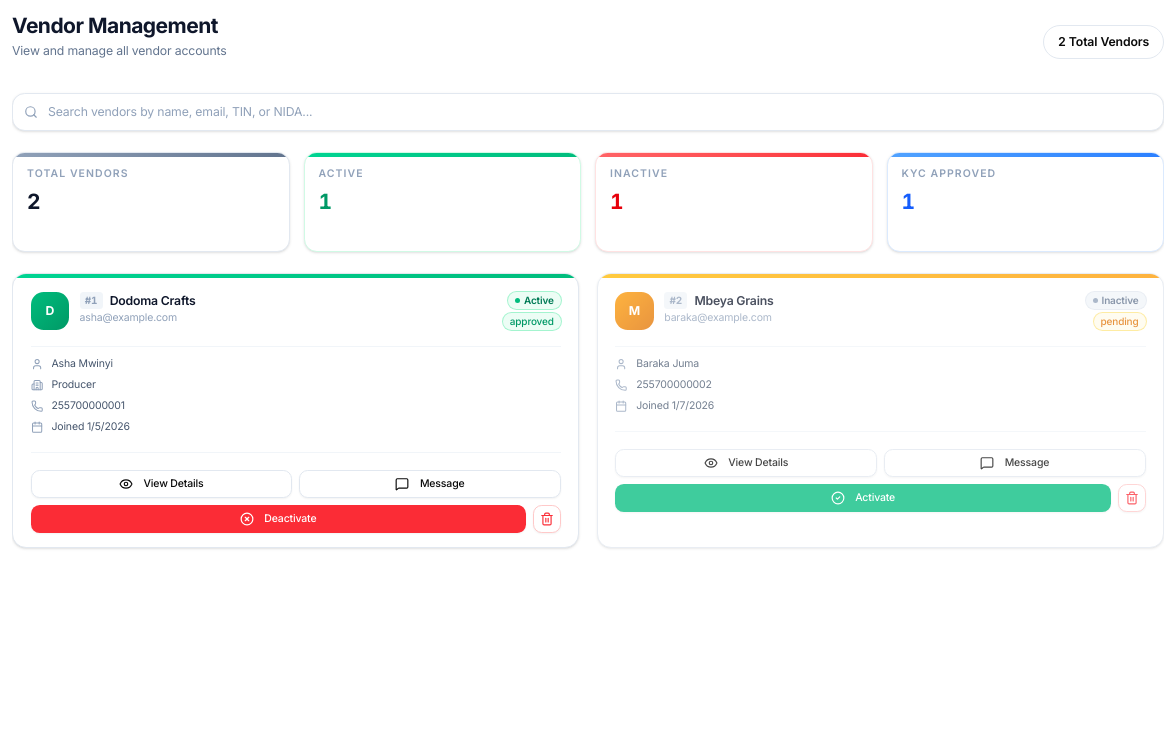
Test: VendorManagementTab › search › restores the full list when the query is cleared
Expected: the heading "Dodoma Crafts" is shown, [110,293,196,308]
Type "mbeya" into the field with placeholder "Search vendors by name, email, TIN, or NIDA...".
click(588, 112); type("mbeya")  # box [12,92,1164,131]
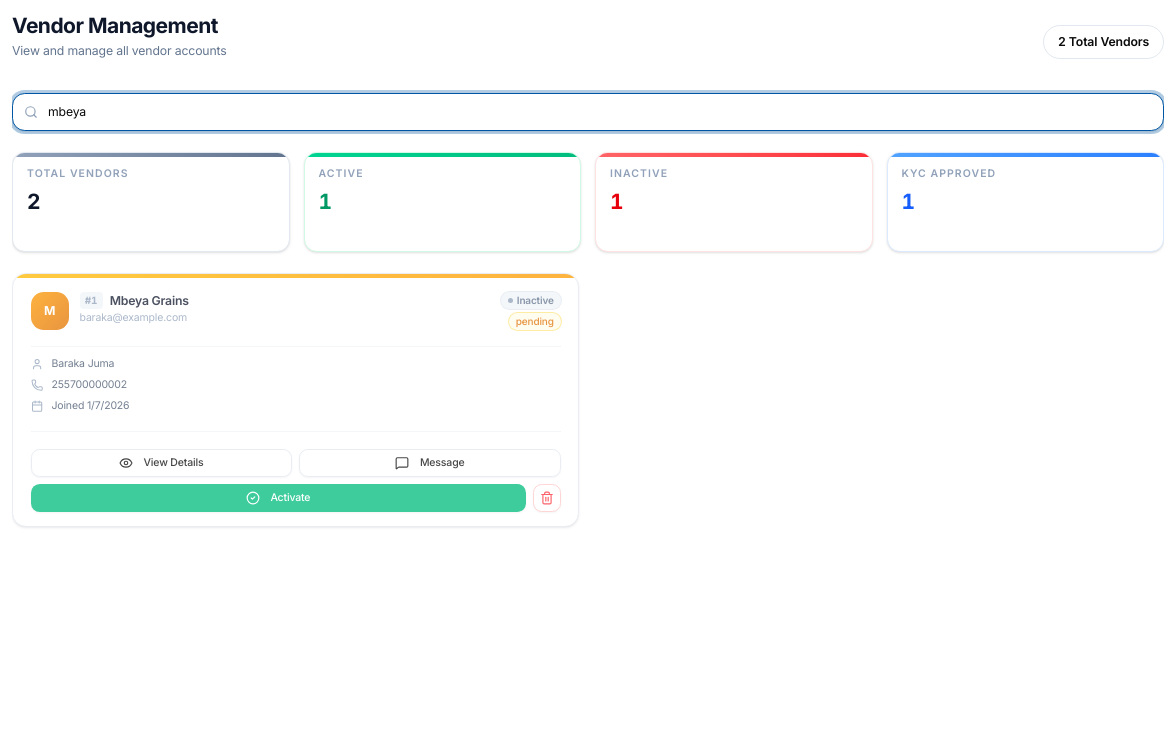
Now the heading "Dodoma Crafts" is gone
Clear the field with placeholder "Search vendors by name, email, TIN, or NIDA..." at (588, 112), box [12,92,1164,131]
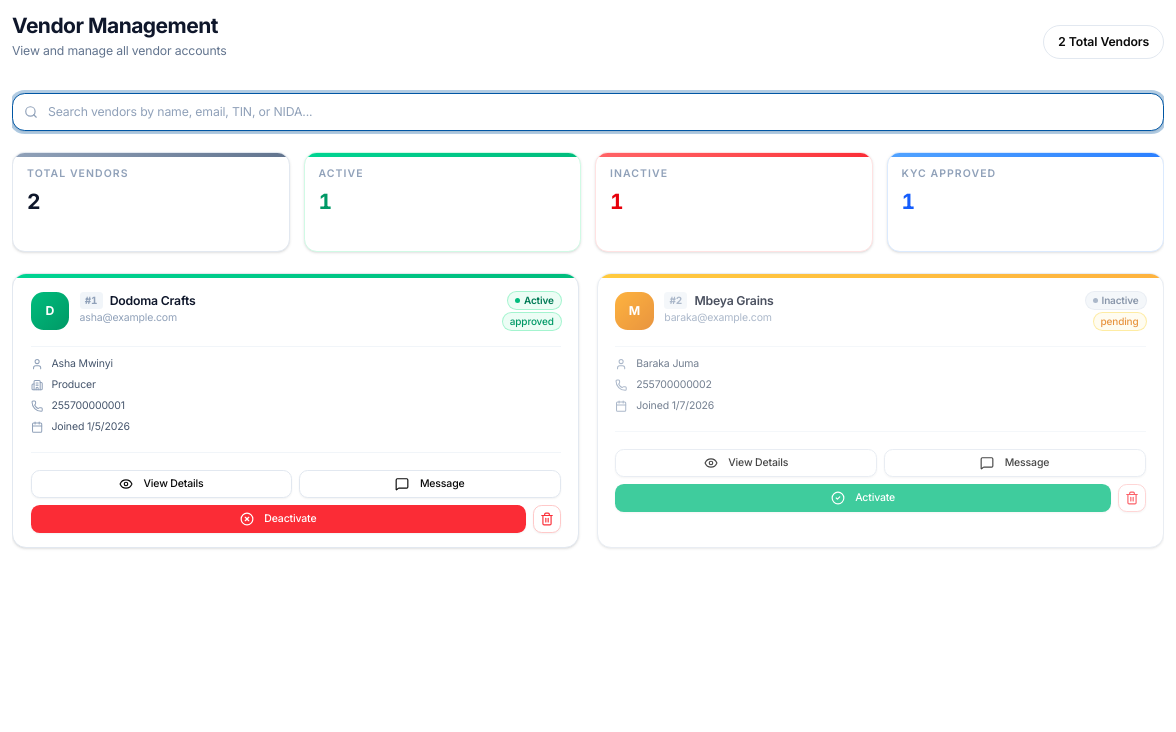
Now the heading "Dodoma Crafts" is shown, box [110,293,196,308]
